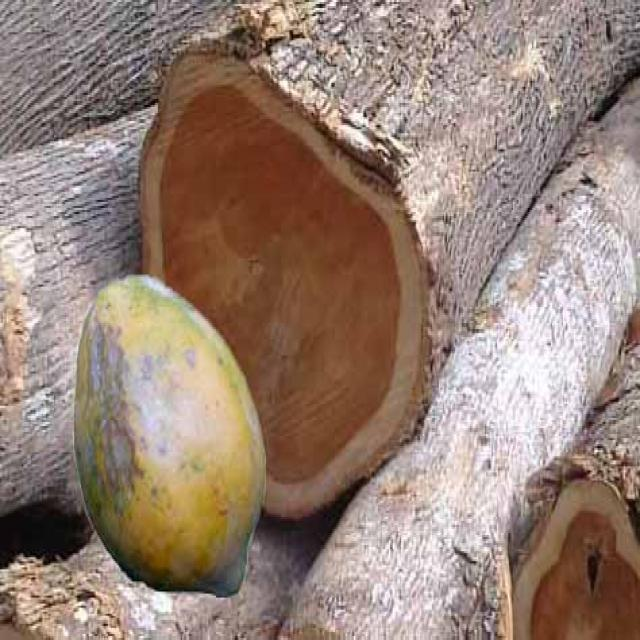Pepaya rippen: (66, 260, 266, 596)
